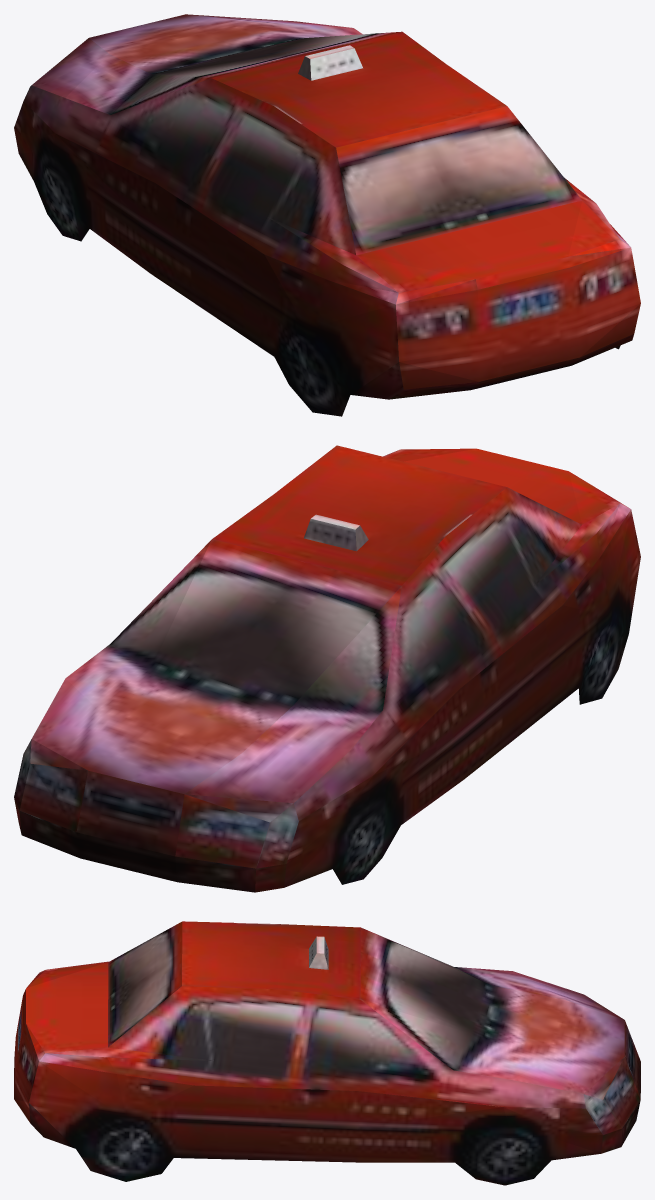
The model's file is hongche.FBX.
3 renders of one model, top to bottom at view 1: azimuth 30°, elevation 25°; view 2: azimuth 150°, elevation 25°; view 3: azimuth 270°, elevation 25°, orthographic. The views are drawn at different scales.
Visible parts, largest first — view 1: yzh-qc-716; view 2: yzh-qc-716; view 3: yzh-qc-716.
Part boxes in pixels (left/top/right/bottom): yzh-qc-716: left=14, top=14, right=640, bottom=416; yzh-qc-716: left=14, top=445, right=640, bottom=892; yzh-qc-716: left=14, top=921, right=640, bottom=1185.
Bounding box in the file's own units: 191 × 135 × 419.
